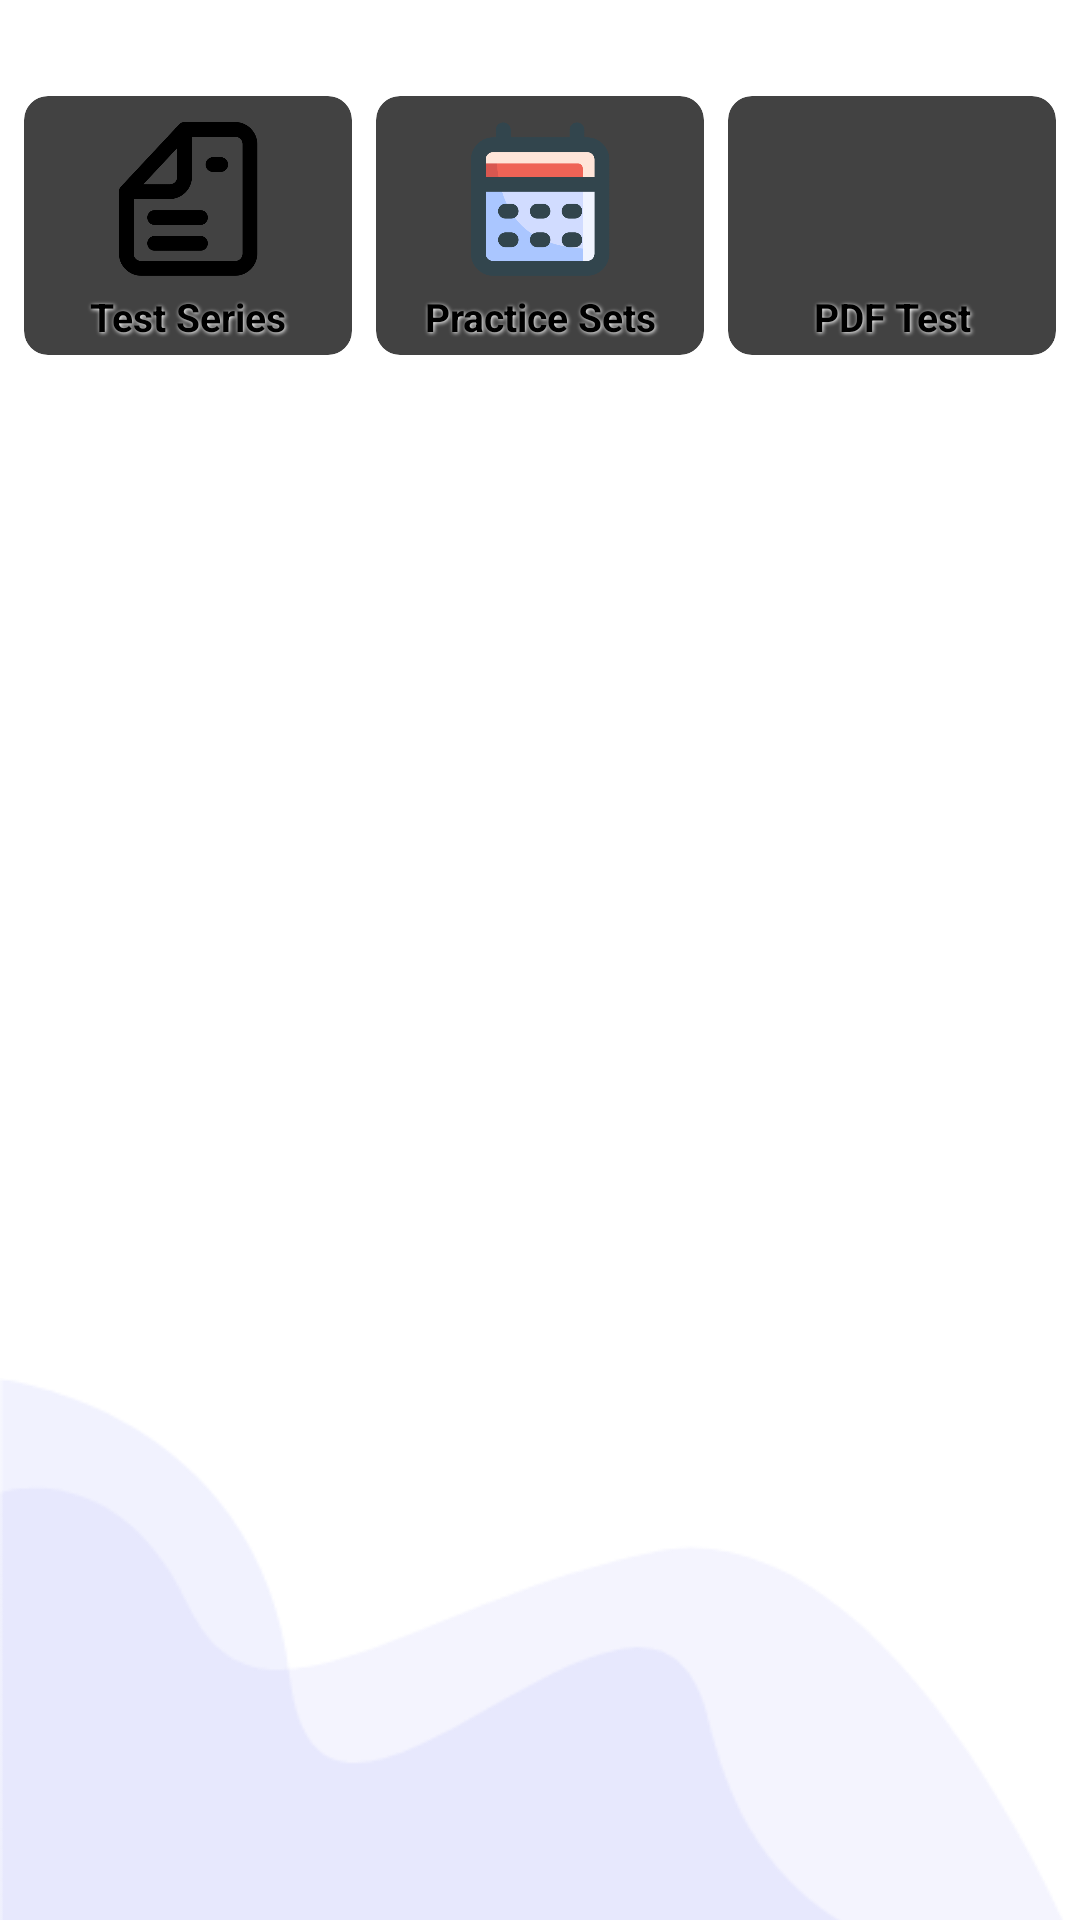

Icon bounding boxes for this 1080px×1920px phone screenshot, format (x1, y1, x2, y2):
exam: (119, 122, 257, 276)
schedule: (486, 152, 595, 261)
